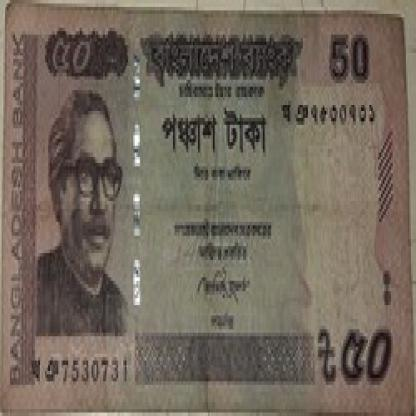Fifty taka: (320, 312, 390, 392), (45, 24, 98, 87)
